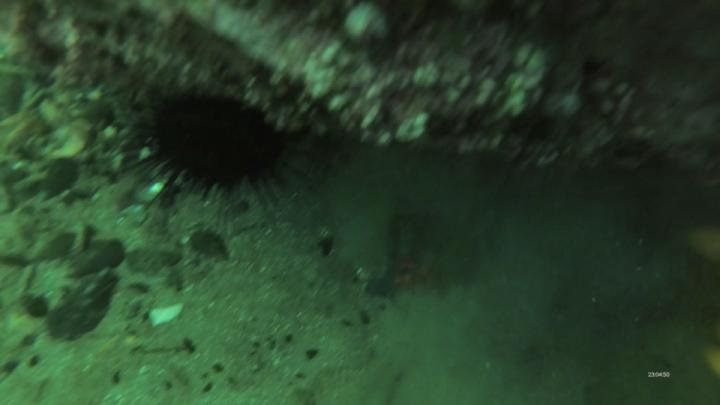echinus: (149, 93, 289, 191)
